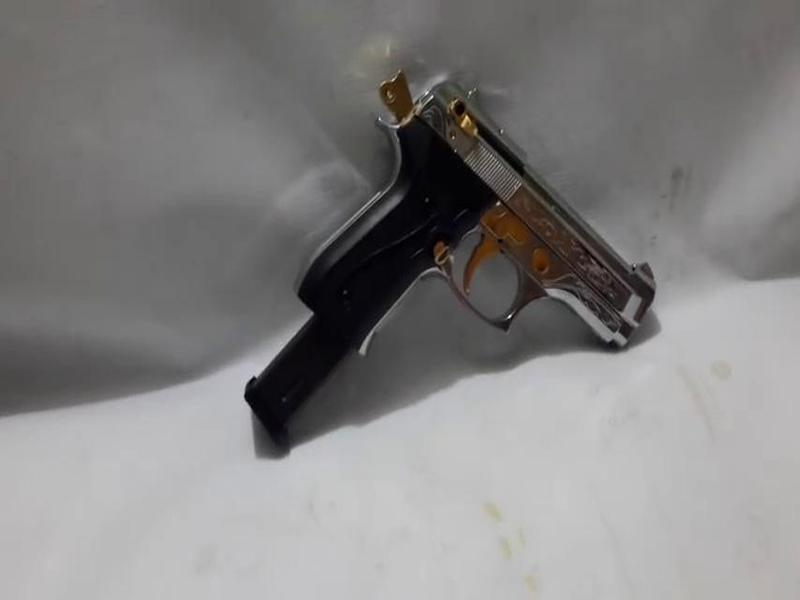Pistola: (296, 59, 685, 364)
